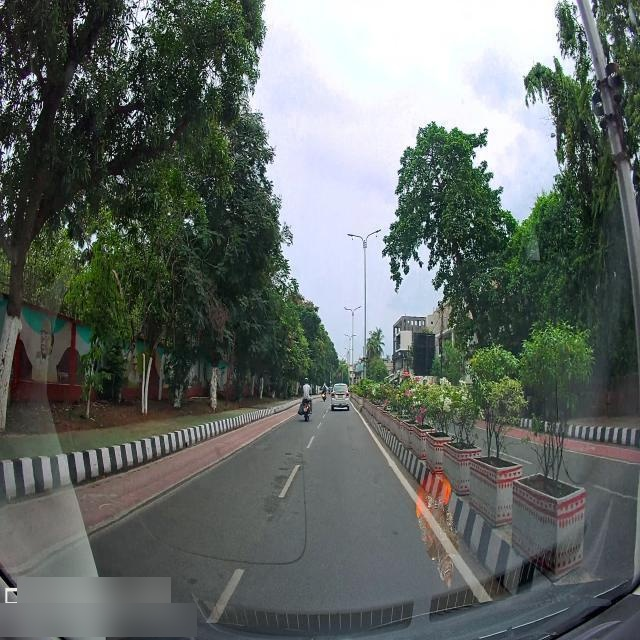pothole: (261, 487, 292, 521), (284, 444, 296, 458), (296, 448, 304, 461)
